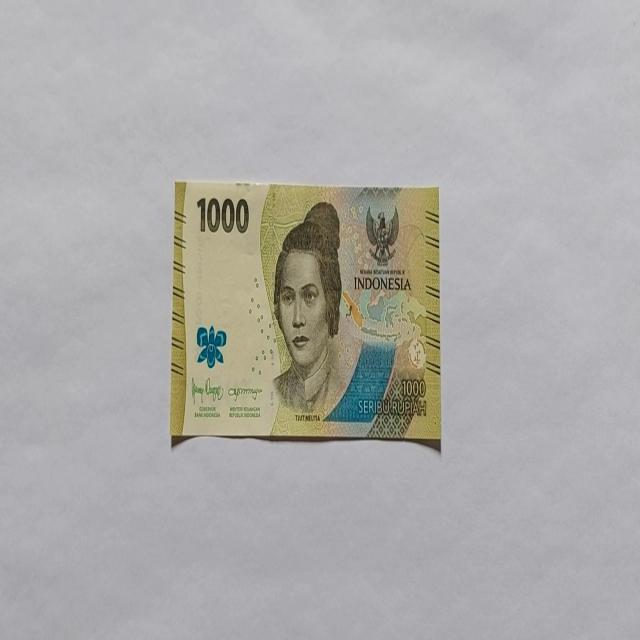seribu rupiah kertas: (170, 178, 440, 446)
